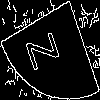Z: (25, 25, 67, 72)
